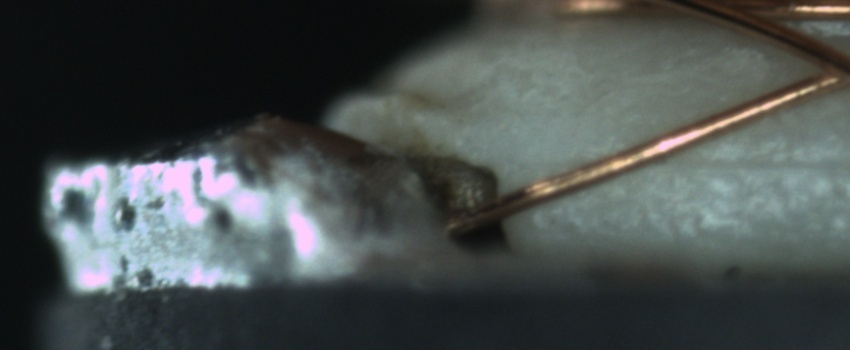CL: (793, 40, 850, 99)
DL: (614, 125, 847, 192)
